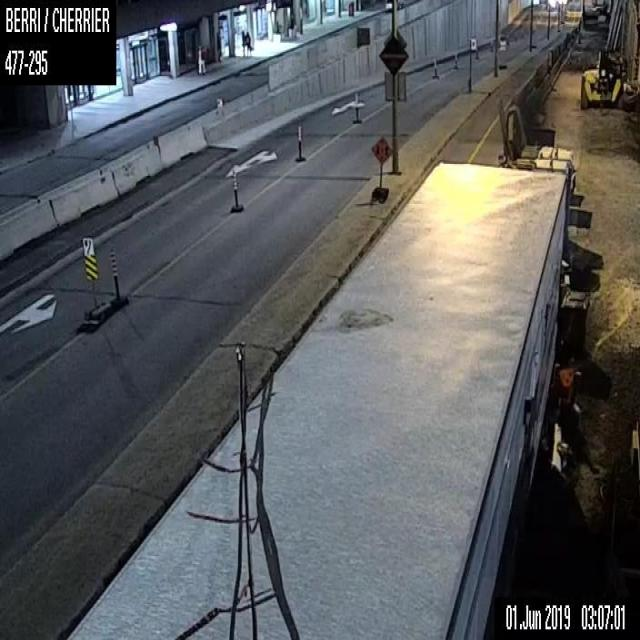construction: (370, 136, 392, 203), (108, 248, 119, 299), (230, 169, 238, 207), (297, 127, 301, 157), (356, 92, 359, 120), (433, 56, 437, 77), (453, 51, 457, 68), (476, 42, 479, 58)
pedestrian: (240, 29, 253, 57), (197, 43, 205, 73)
